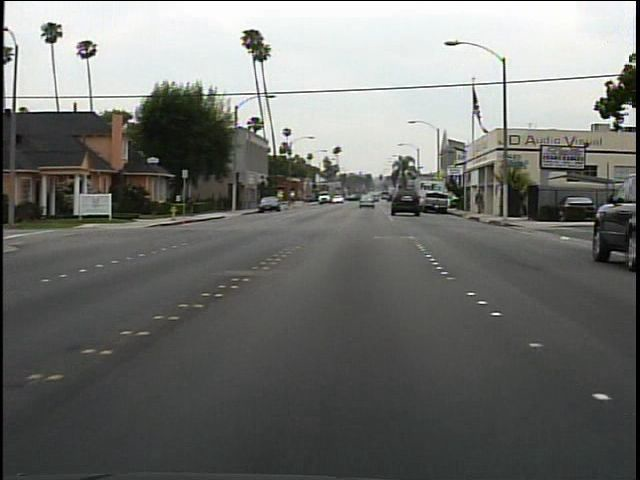person: (472, 187, 490, 218)
